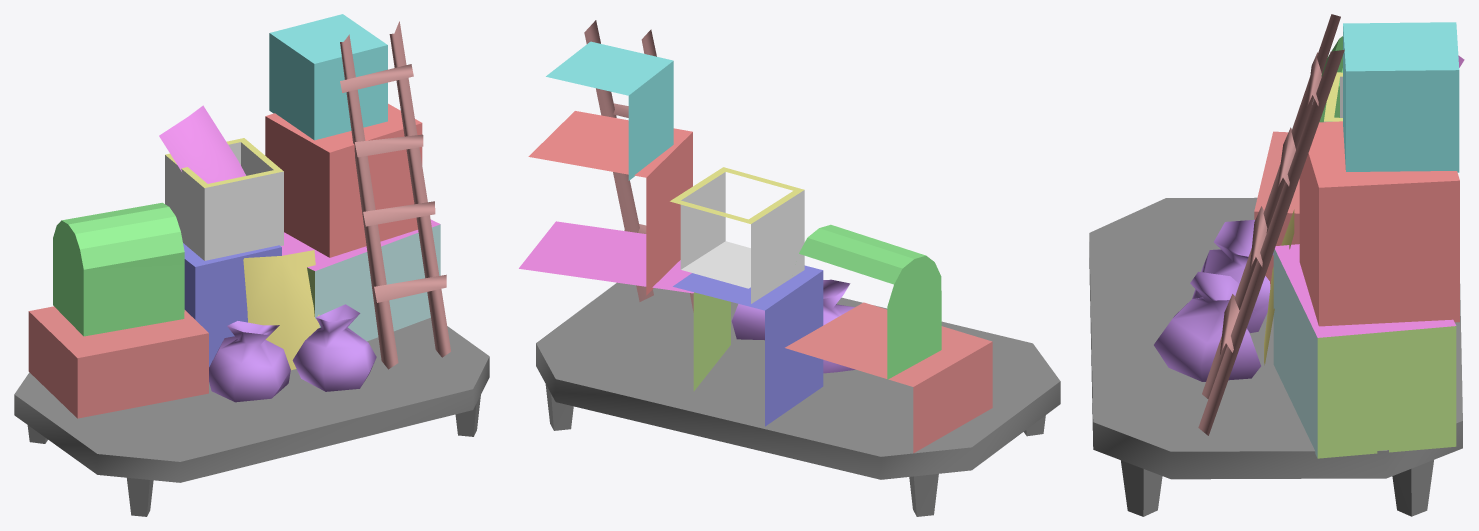
Rendered from interior_A_s__interior_A_204.gltf.
The picture shows the model from 3 angles, left to right: view 1: azimuth 30°, elevation 25°; view 2: azimuth 150°, elevation 25°; view 3: azimuth 270°, elevation 25°; orthographic projection. The views are drawn at different scales.
Parts seen in each view (by area): view 1: interior_A_204; view 2: interior_A_204; view 3: interior_A_204.
Boxes of the visible parts, bbox=[...] form: interior_A_204: bbox=[14, 14, 489, 516]; interior_A_204: bbox=[519, 20, 1060, 516]; interior_A_204: bbox=[1089, 14, 1464, 516].
Bounding box in the file's own units: 1.19 × 1 × 0.7303.
